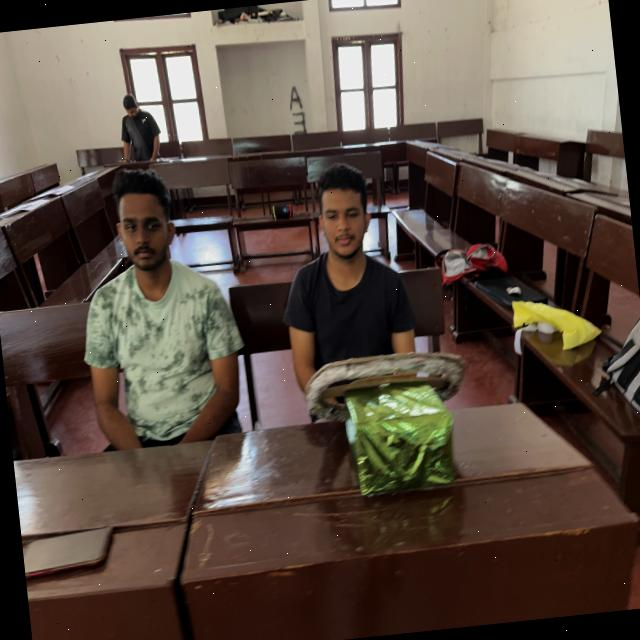no-seatbelt: (78, 254, 250, 482), (281, 253, 424, 441)
